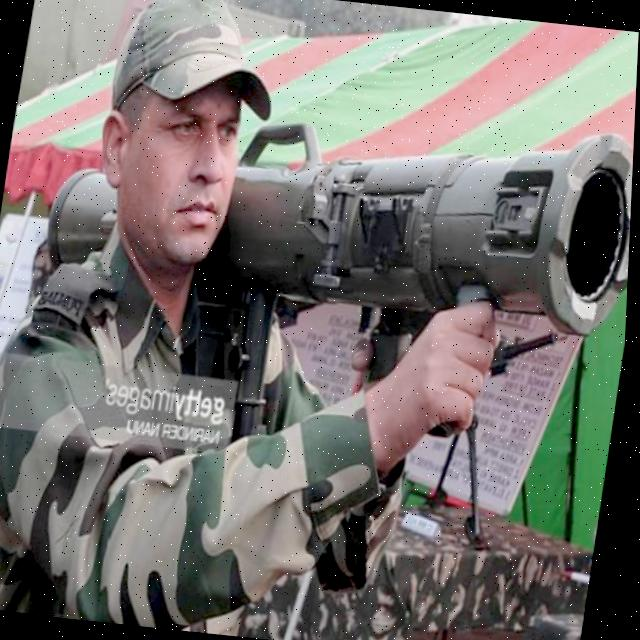rocket: (36, 50, 638, 346)
